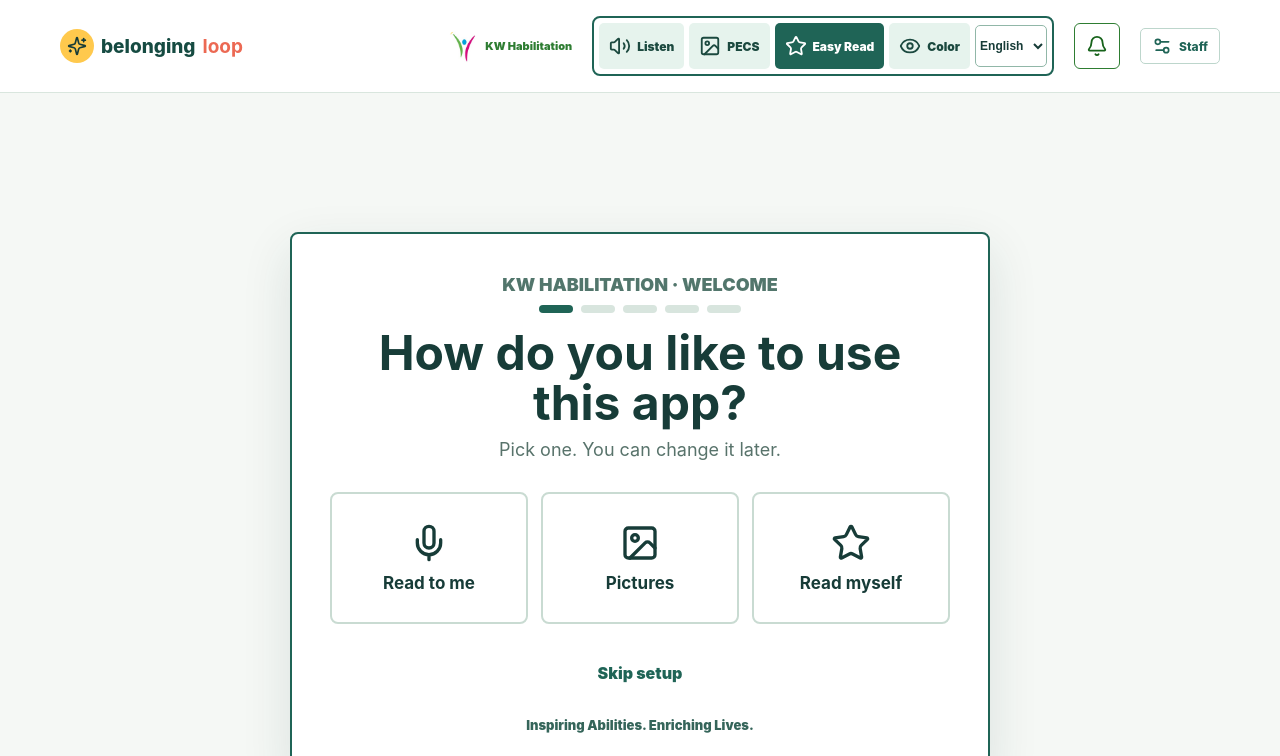
Scenario: Belonging Loop accessible calendar › shows a slowed audio state when a speaker control is used
This screenshot has width=1280, height=756.
Click the button "Skip setup" at (640, 673), box 592,652 -> 688,694
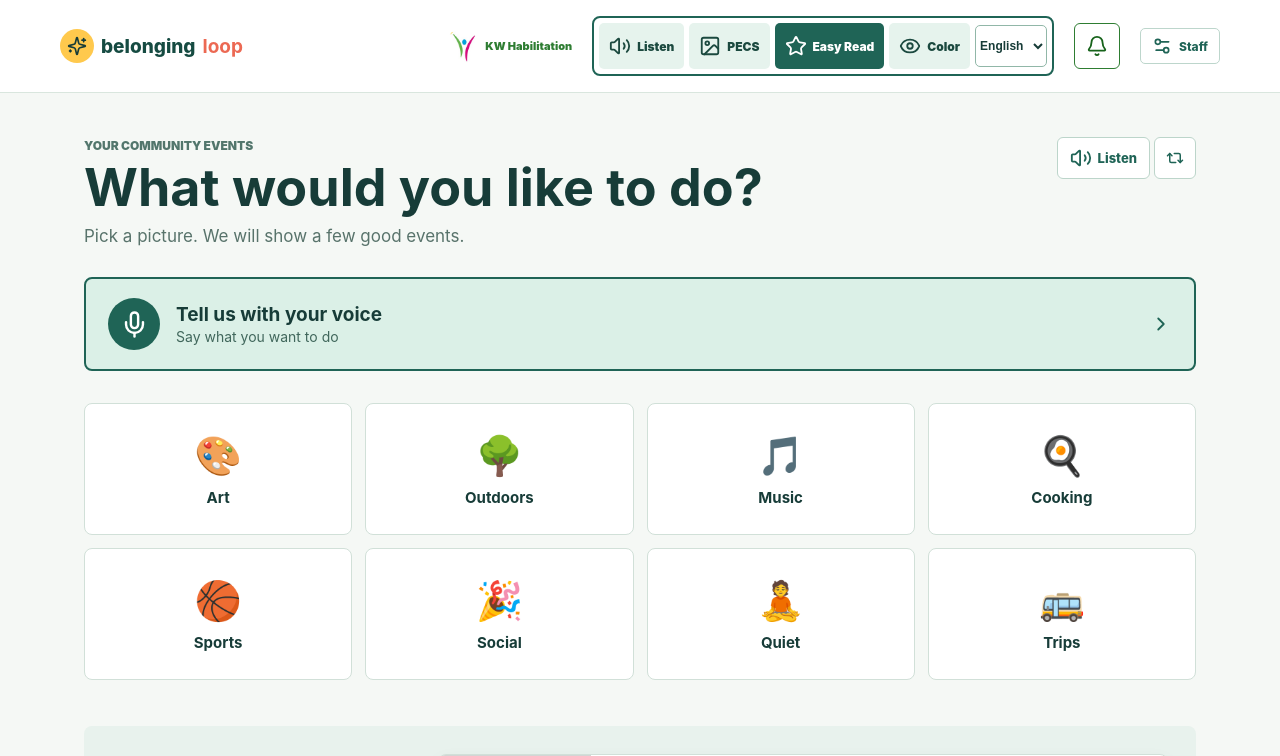
Click the 1st button "Listen" at (642, 46), box 599,23 -> 684,69
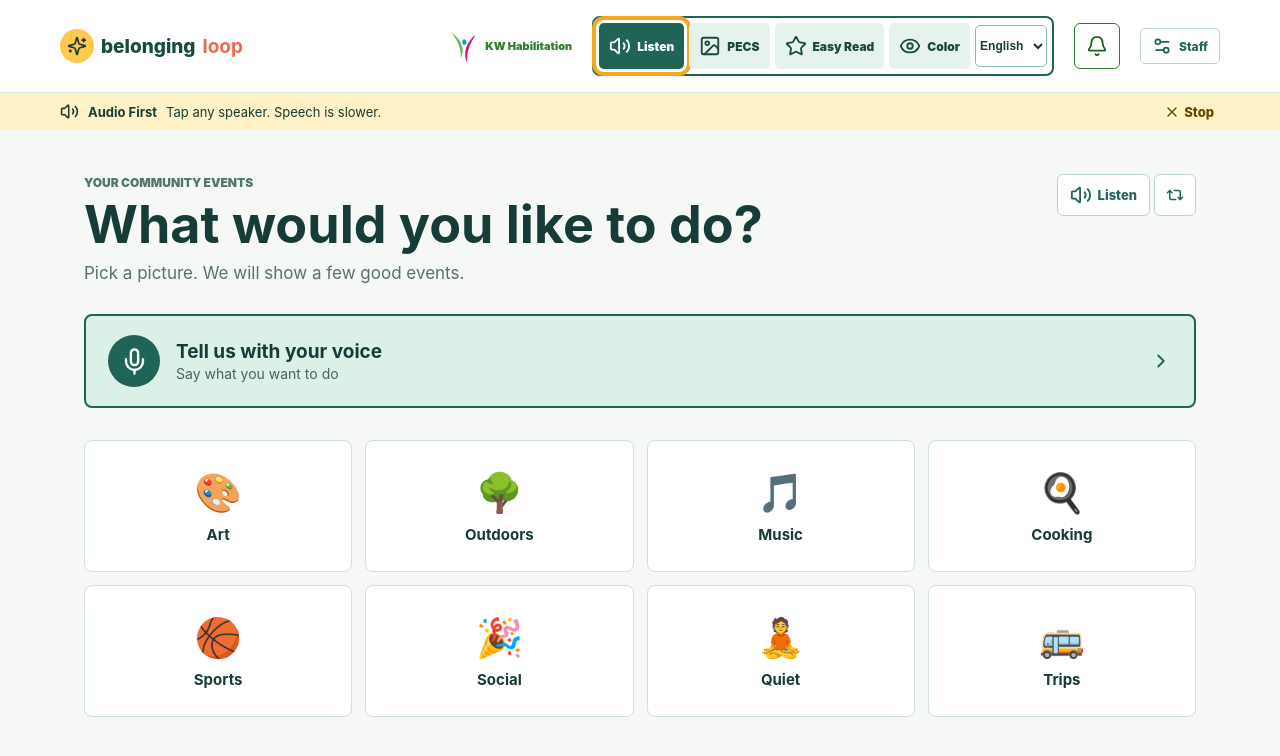
Click the button with aria-label "Listen to Home" at (1103, 195), box 1057,174 -> 1150,216
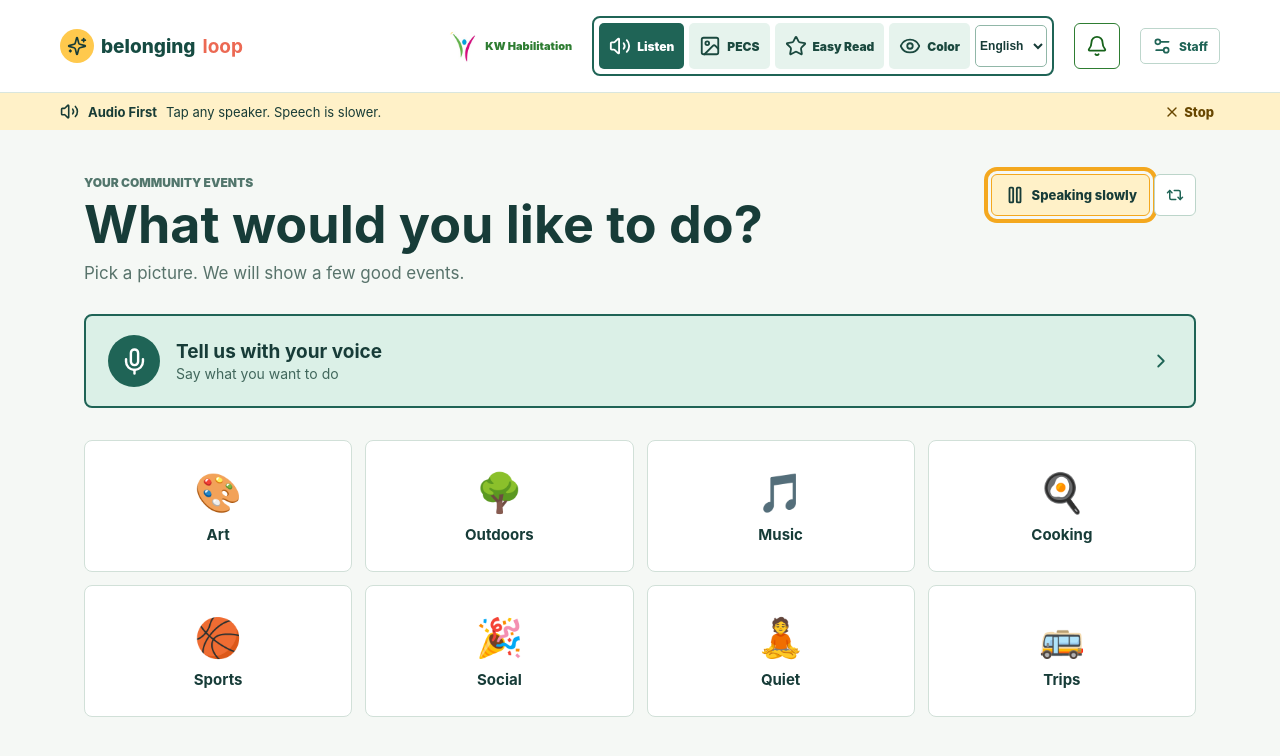
Now the text "Speaking slowly" is shown, box 1032,187 -> 1137,203
